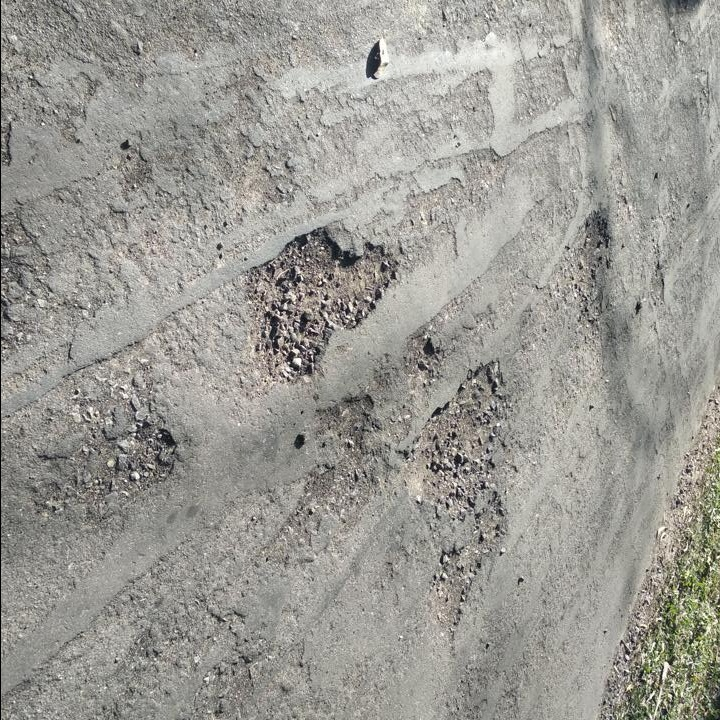pothole: (240, 219, 402, 390), (409, 354, 520, 521), (37, 419, 180, 519), (429, 492, 511, 643), (297, 390, 376, 525), (554, 206, 613, 304), (405, 333, 442, 403)
